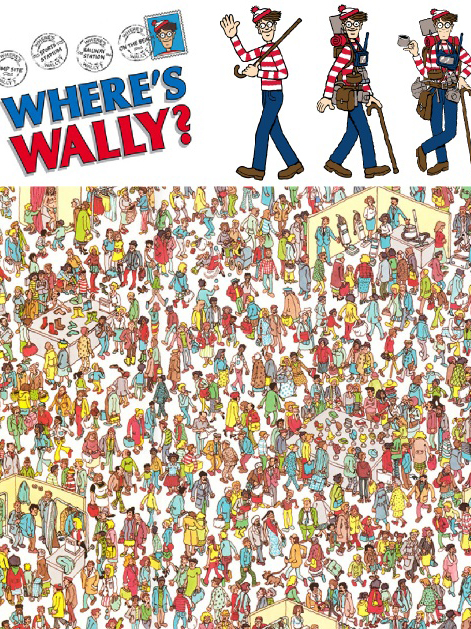waldo: (252, 4, 280, 42), (430, 6, 460, 41), (339, 4, 365, 43), (152, 17, 179, 48), (77, 267, 87, 280)
